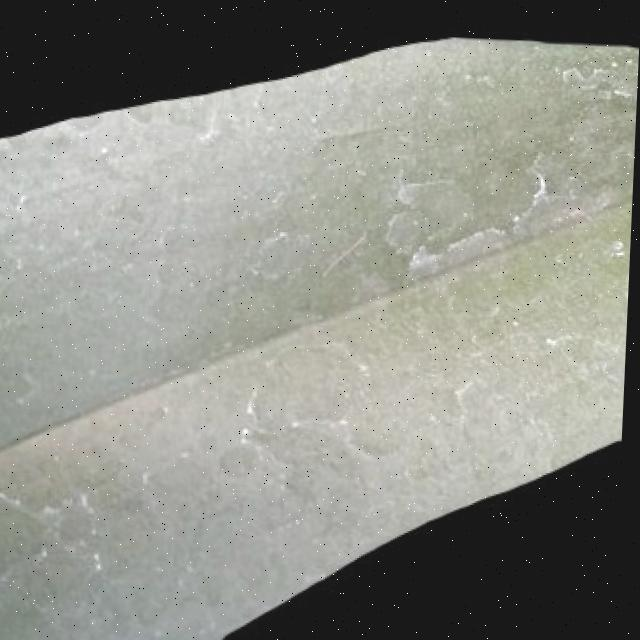mite: (222, 418, 626, 640), (222, 588, 381, 640), (602, 202, 634, 323), (224, 618, 374, 640), (621, 208, 633, 342), (224, 623, 302, 640), (273, 627, 372, 640), (607, 233, 633, 257)
